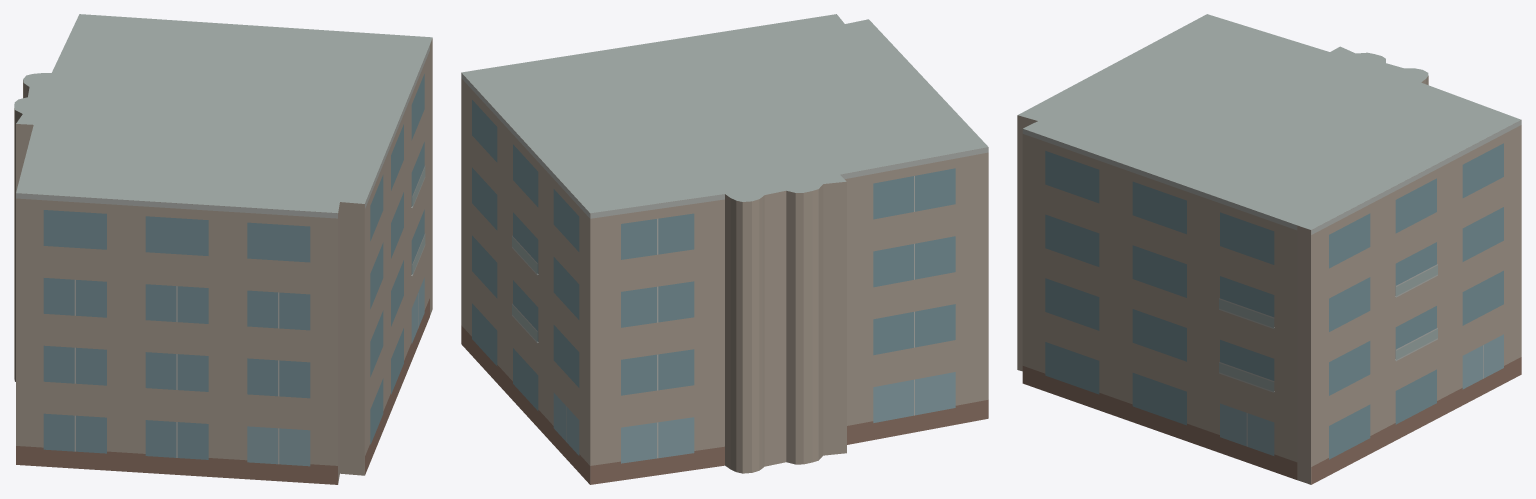
File: survey-upis-32927646.glb
3 views of the same model, side by side, from view 1: azimuth 30°, elevation 25°; view 2: azimuth 150°, elevation 25°; view 3: azimuth 270°, elevation 25° (orthographic). The views are drawn at different scales.
Visible parts, largest first — view 1: survey-upis-32927646.tmp; view 2: survey-upis-32927646.tmp; view 3: survey-upis-32927646.tmp.
Part boxes in pixels (x1=…): survey-upis-32927646.tmp: x1=14, y1=14, x2=432, y2=484; survey-upis-32927646.tmp: x1=461, y1=14, x2=988, y2=484; survey-upis-32927646.tmp: x1=1017, y1=14, x2=1521, y2=484.
Size of the model in its own units: 22.2 by 12.2 by 21.88.
